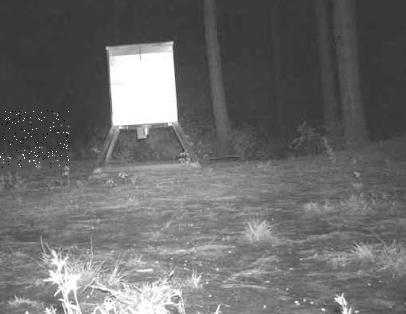Hog: (0, 110, 69, 168)
